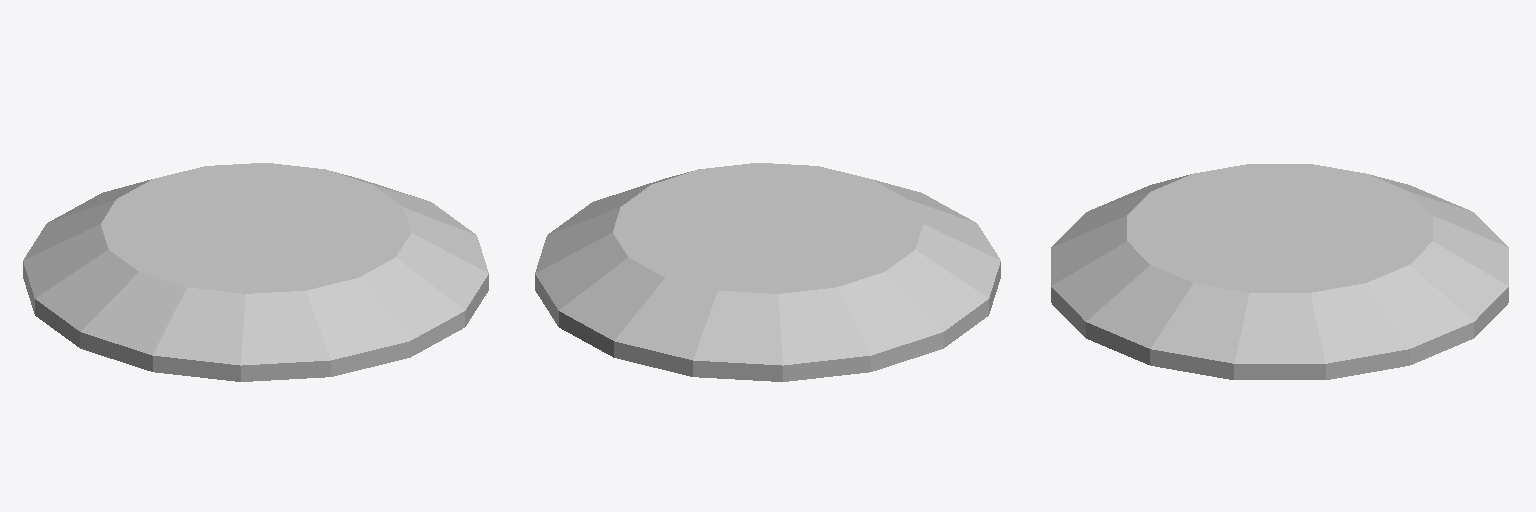
File: decoupler collider.obj
3 renders of one model, left to right at view 1: azimuth 30°, elevation 25°; view 2: azimuth 150°, elevation 25°; view 3: azimuth 270°, elevation 25°, orthographic.
Visible parts, largest first — view 1: collider; view 2: collider; view 3: collider.
Boxes of the visible parts, x1=… form: collider: x1=23, y1=163, x2=488, y2=381; collider: x1=535, y1=163, x2=1000, y2=381; collider: x1=1051, y1=164, x2=1508, y2=379.
Bounding box in the file's own units: 0.9375 × 0.125 × 0.9375.